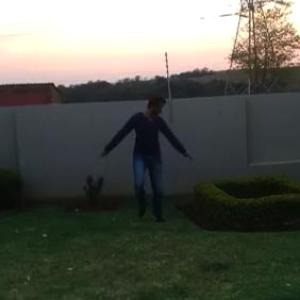land: (99, 97, 196, 231)
